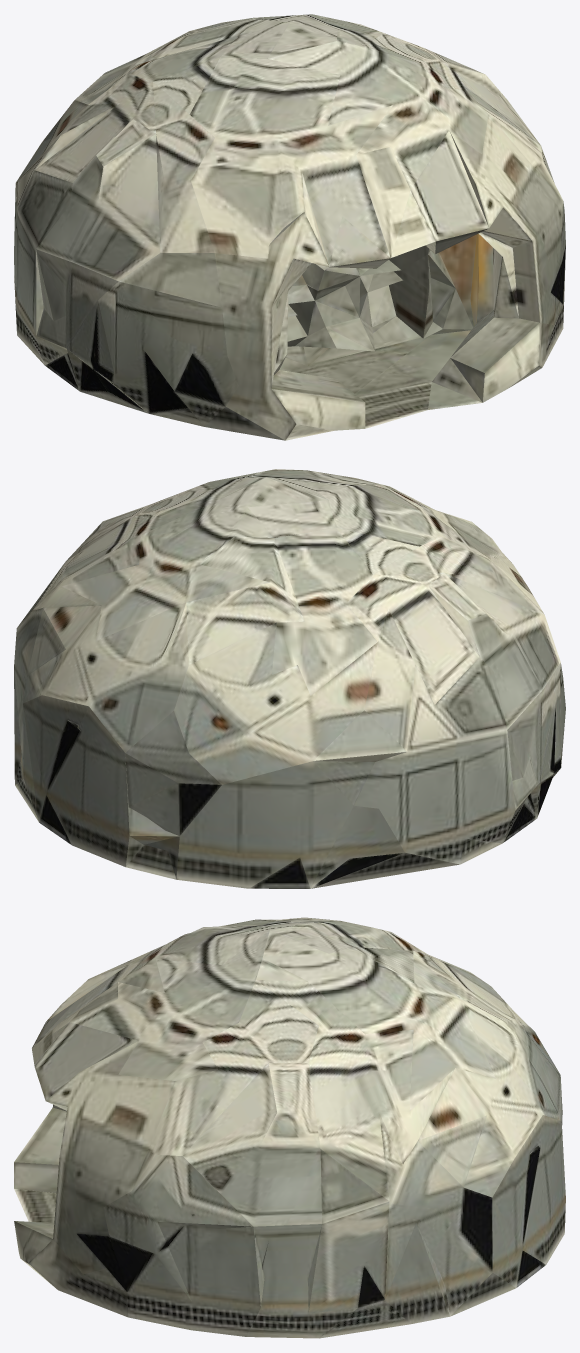
Rendered from facility-arsenal.glb.
3 views of the same model, one above another, from view 1: azimuth 30°, elevation 25°; view 2: azimuth 150°, elevation 25°; view 3: azimuth 270°, elevation 25° (orthographic).
Bounding box in the file's own units: 1.9 × 1.06 × 1.87.
Materials: 1 (1 with a texture image).
